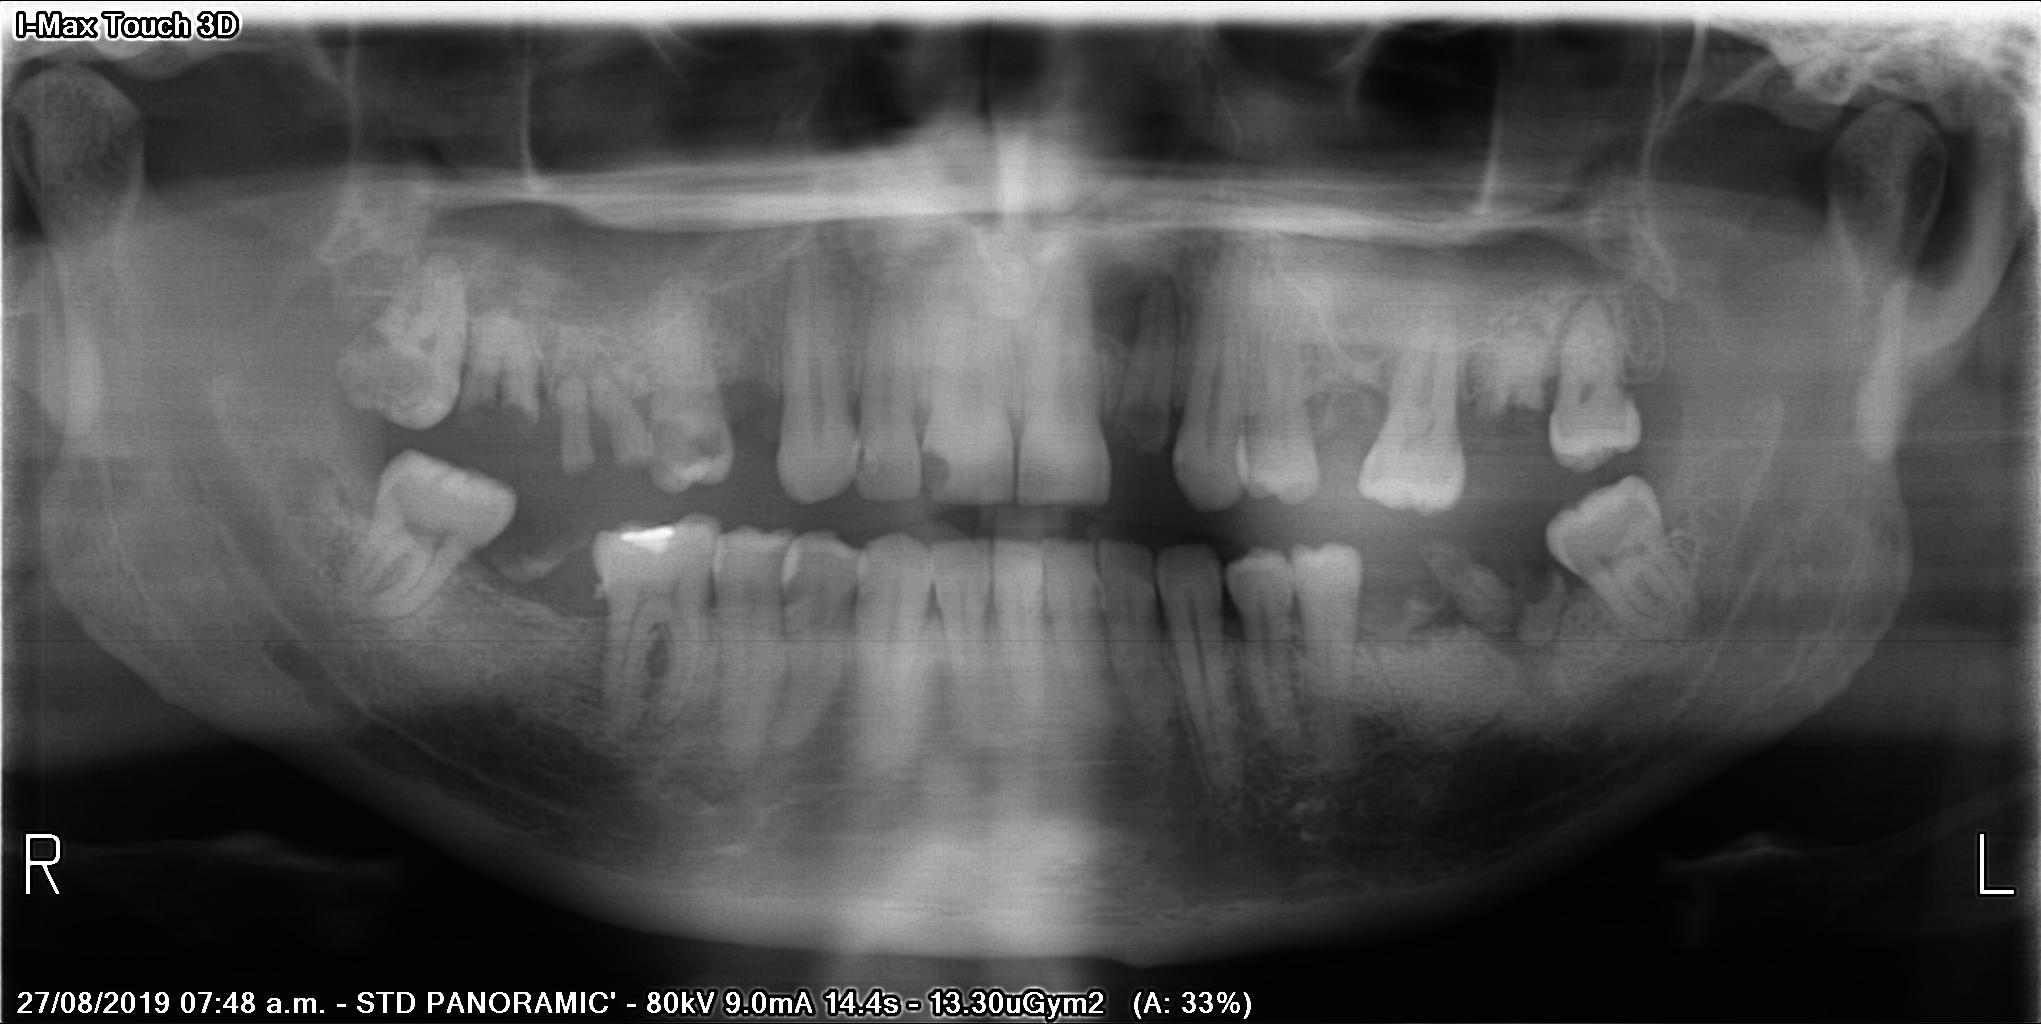Çürük: (615, 522, 688, 554)
Çürük Bölgesi: (356, 346, 440, 417), (461, 380, 550, 434), (921, 445, 955, 503), (688, 434, 738, 465)
